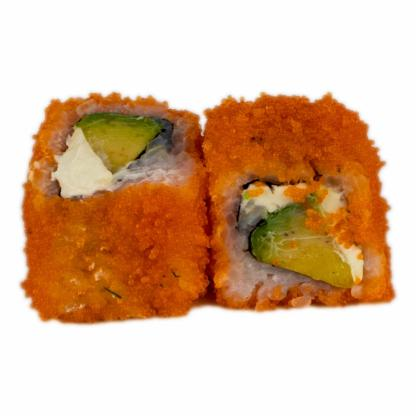masago: (197, 90, 402, 321)
